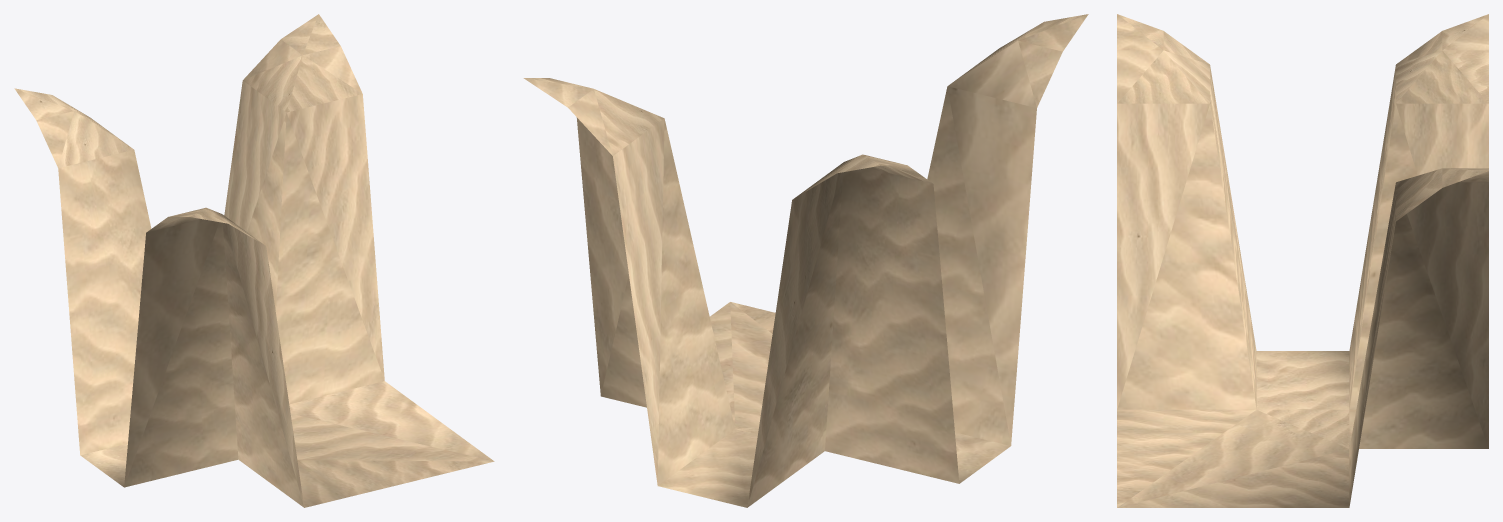
The model's file is Sand4b.obj.
The picture shows the model from 3 angles, left to right: view 1: azimuth 30°, elevation 25°; view 2: azimuth 150°, elevation 25°; view 3: azimuth 270°, elevation 25°; orthographic projection. The views are drawn at different scales.
Parts seen in each view (by area): view 1: Grid_Grid.027_Grid_Grid.016; view 2: Grid_Grid.027_Grid_Grid.016; view 3: Grid_Grid.027_Grid_Grid.016.
Part boxes in pixels (box(x1,y1,x2,y2)): Grid_Grid.027_Grid_Grid.016: box(14, 14, 494, 507); Grid_Grid.027_Grid_Grid.016: box(523, 14, 1088, 507); Grid_Grid.027_Grid_Grid.016: box(1117, 14, 1488, 507).
Size of the model in its own units: 1 by 1 by 1.
